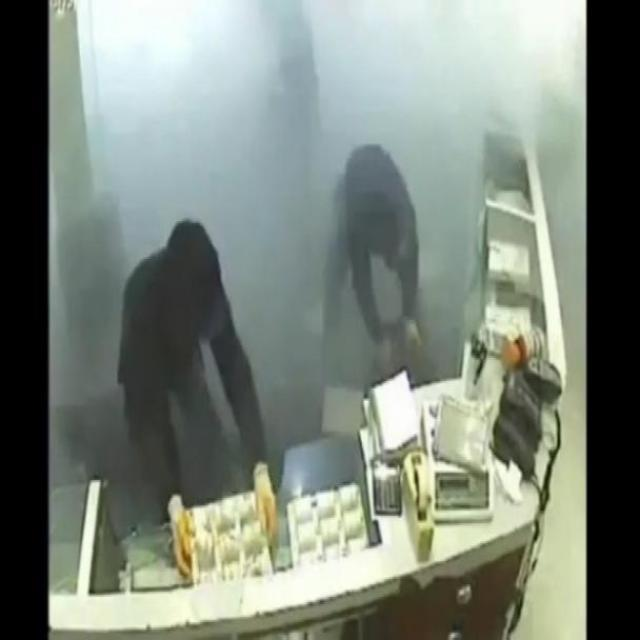Smoke: (89, 0, 567, 432)
